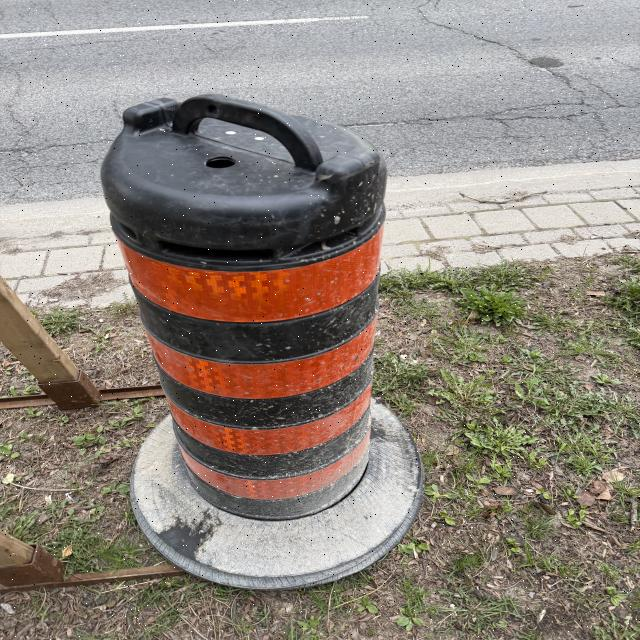Teraffic Barrel: (102, 95, 421, 585)
